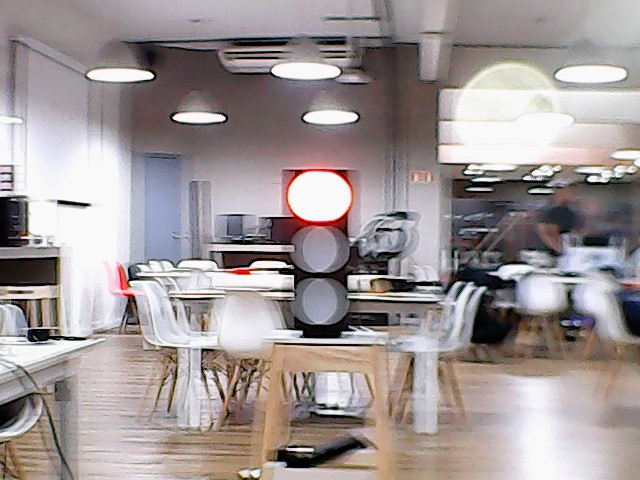vermelho: (284, 166, 361, 335)
